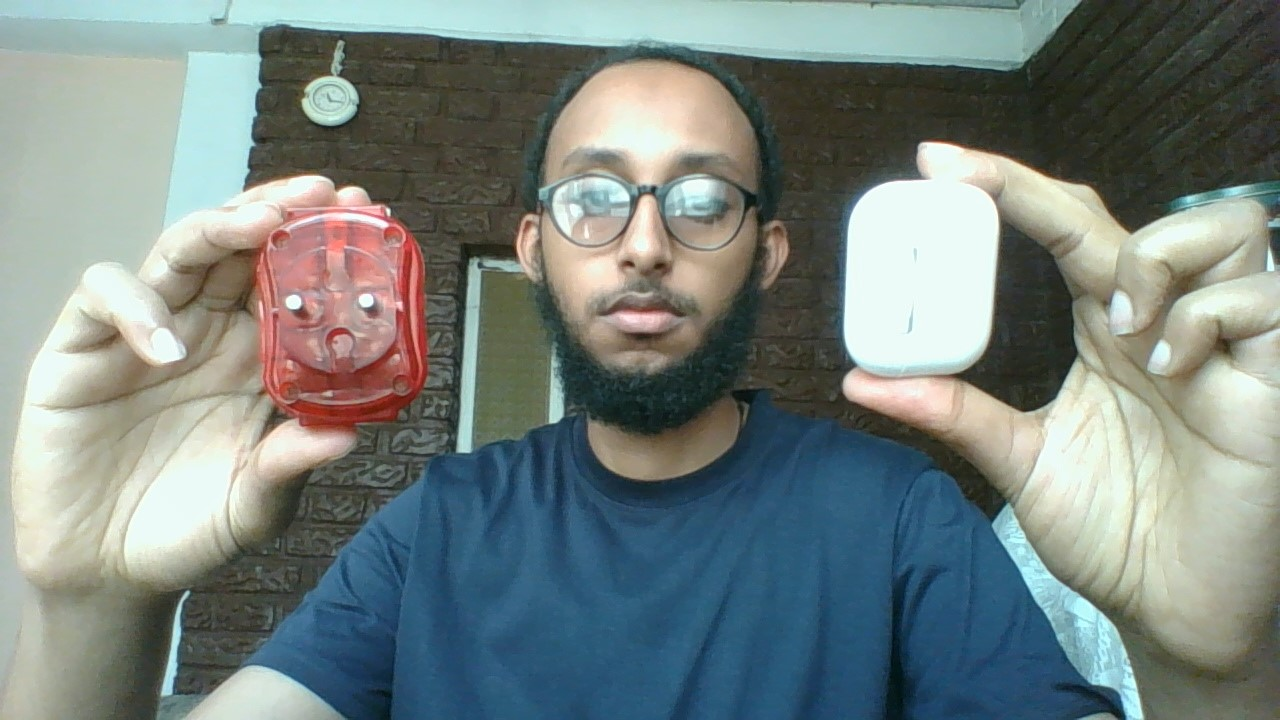Air_pod: (839, 168, 1007, 387)
Multi_adapter: (251, 199, 431, 438)
